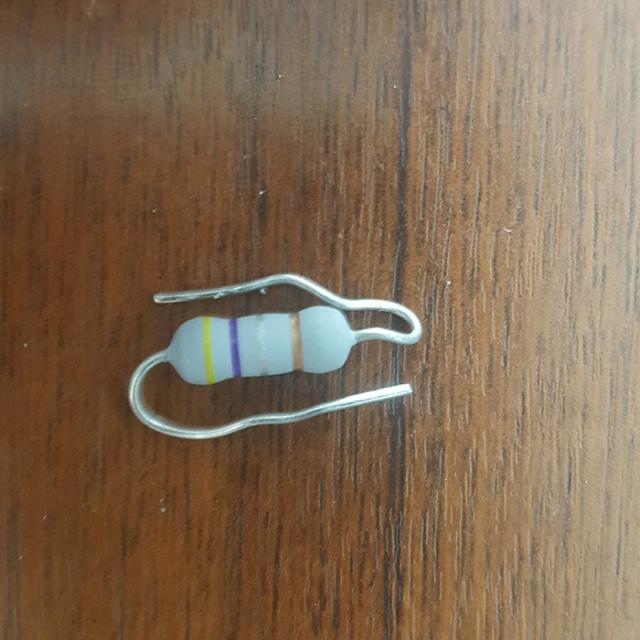Resistor Carbon-Film: (160, 306, 357, 390)
